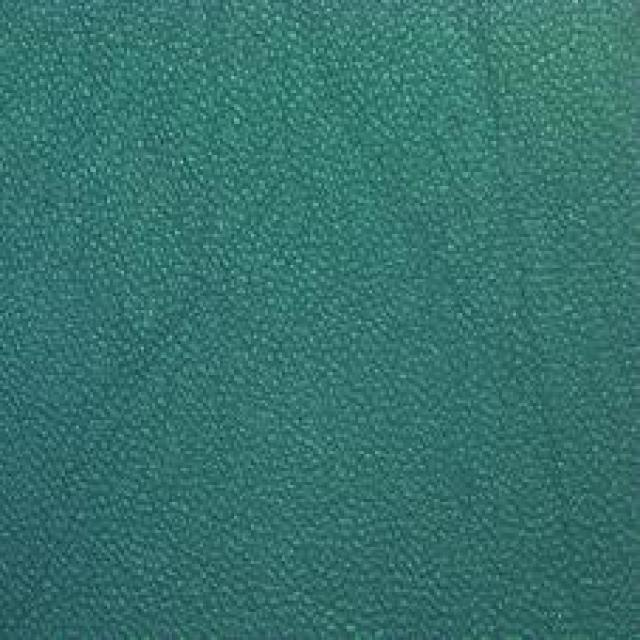Growth Marks: (448, 36, 574, 477)
